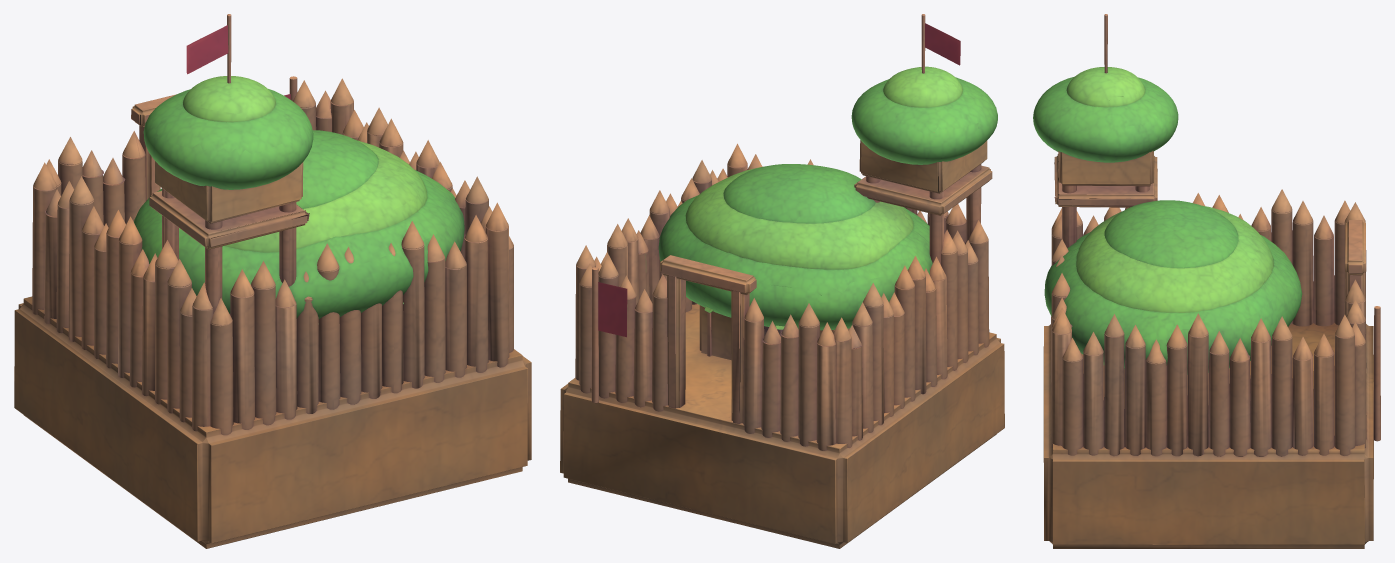
The model's file is WM_WoodFort.fbx.
3 renders of one model, left to right at view 1: azimuth 30°, elevation 25°; view 2: azimuth 150°, elevation 25°; view 3: azimuth 270°, elevation 25°, orthographic. The views are drawn at different scales.
Parts seen in each view (by area): view 1: WM_WoodFort_LOD0; view 2: WM_WoodFort_LOD0; view 3: WM_WoodFort_LOD0.
Boxes of the visible parts, x1,y1,x2,y2 form: WM_WoodFort_LOD0: (14,14,531,548); WM_WoodFort_LOD0: (560,14,1004,548); WM_WoodFort_LOD0: (1033,14,1380,548).
Size of what is drawn, in the model's own units: 4.63 by 6.4 by 4.75.
